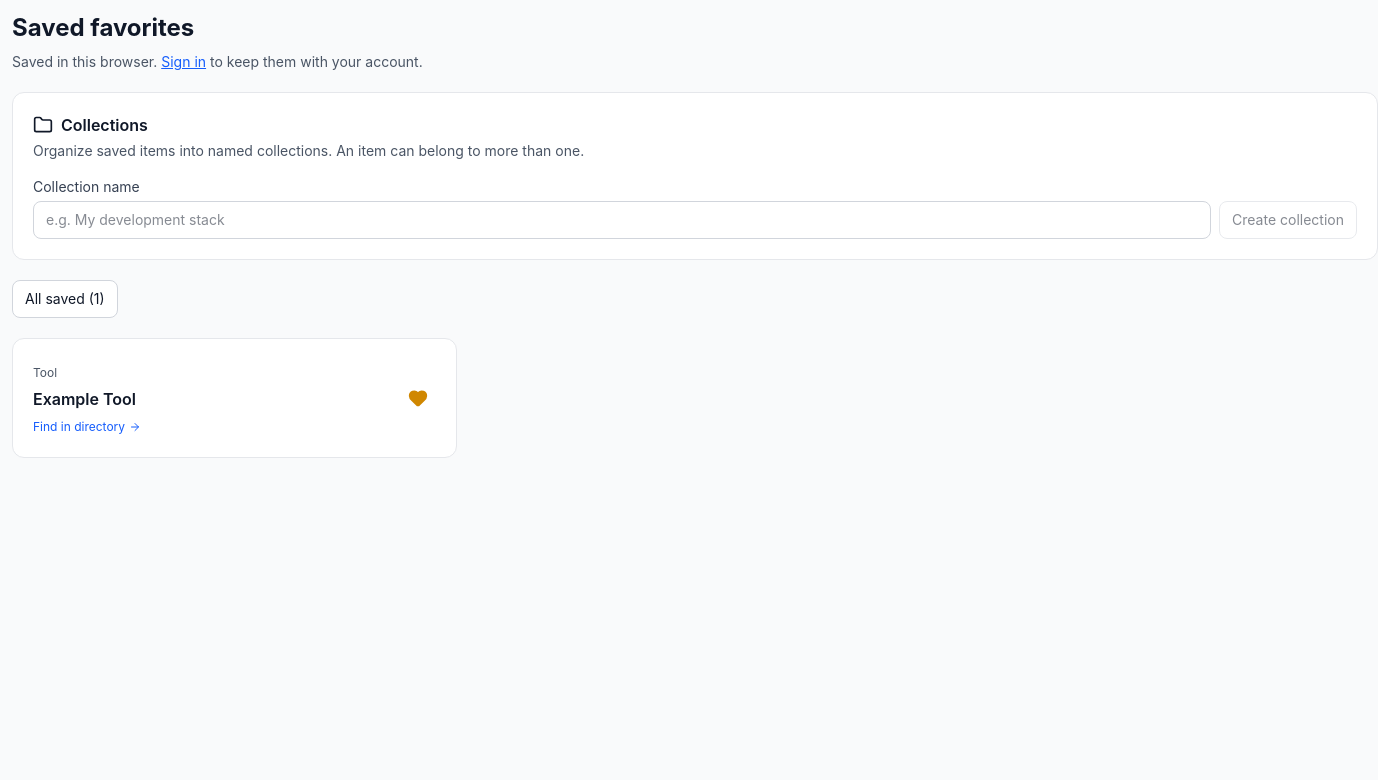
shows storage failures without creating a phantom collection
The image size is (1378, 780).
Type "Writing" into the field labelled "Collection name".
click(622, 220); type("Writing")  # box [33,201,1211,239]
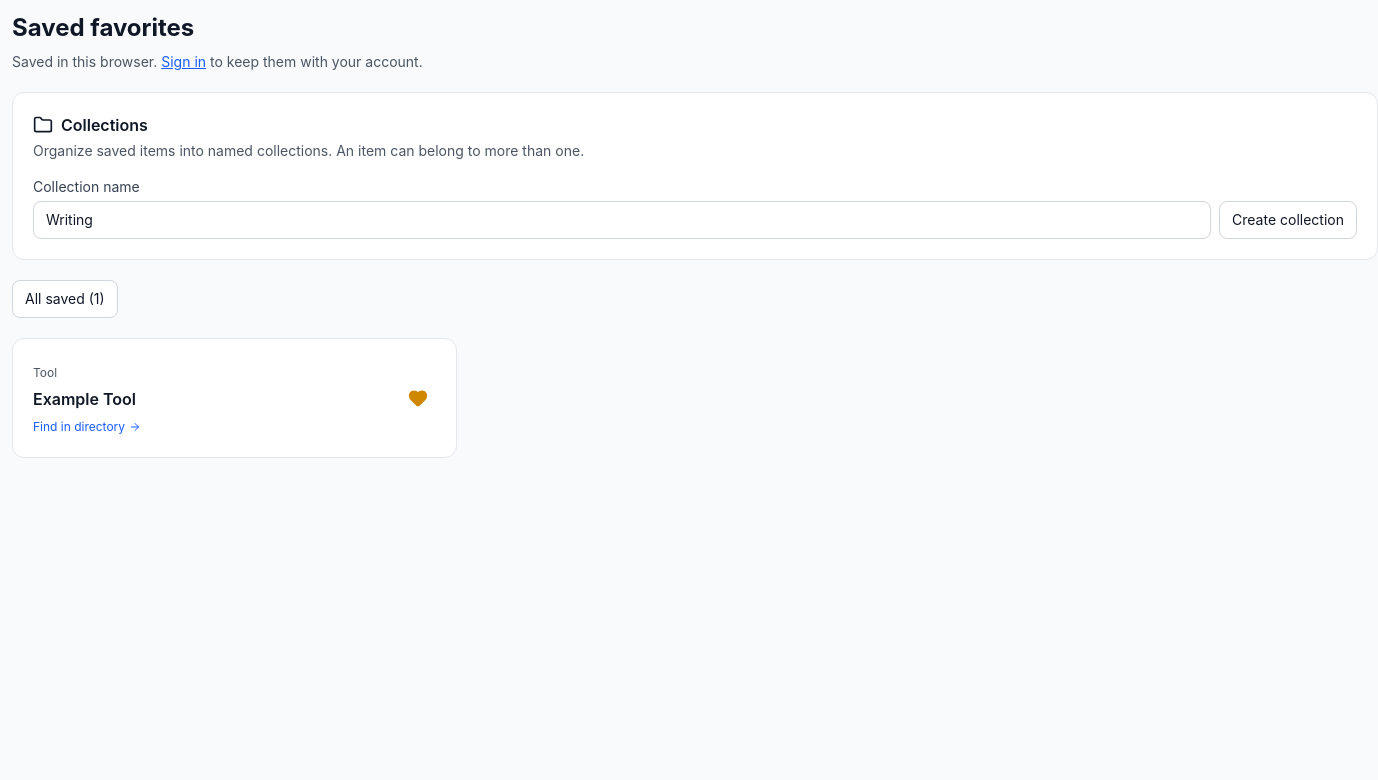
Click the button "Create collection".
click(1288, 220)  # box [1219,201,1357,239]
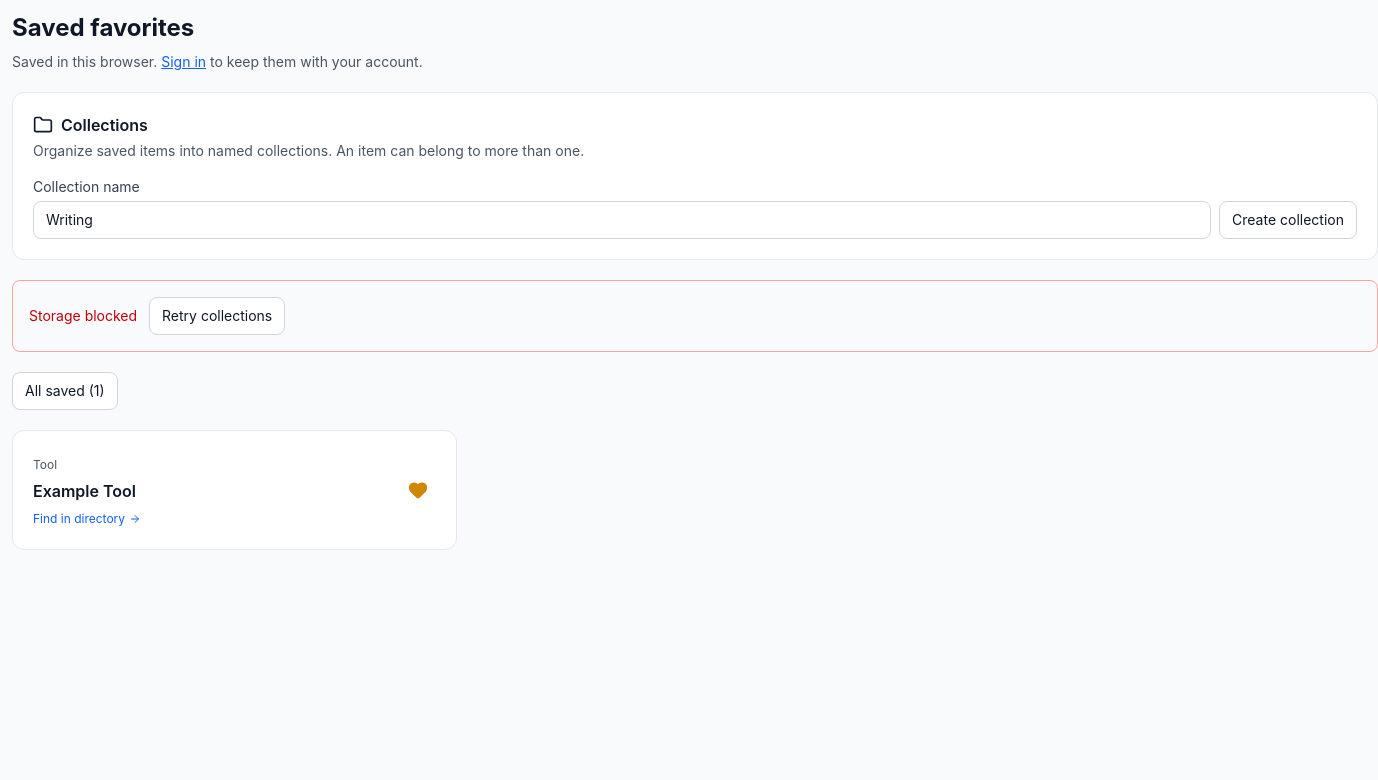
Now the message "Storage blocked Retry collections" is shown, box [12,280,1377,352]
